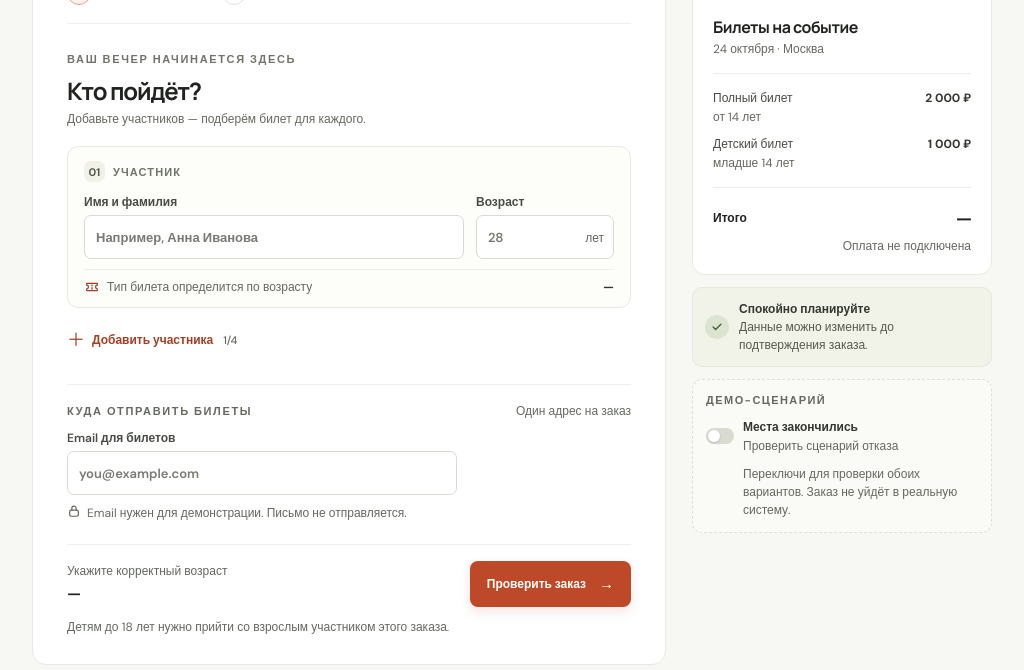
Scenario: ticket booking flow › caps the order at four attendees
This screenshot has width=1024, height=670.
(page scrolled)
Click the button "＋ Добавить участника 1/4" at x=156, y=340, box [67,318,245,362]
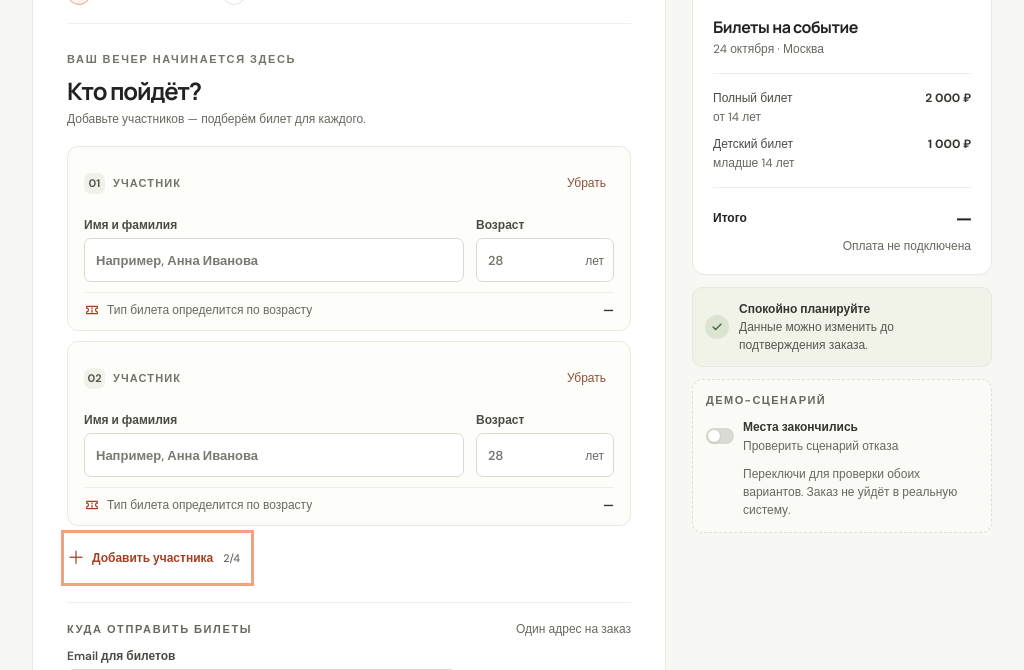
Click the button "＋ Добавить участника 2/4" at x=158, y=558, box [67,536,248,580]
(page scrolled)
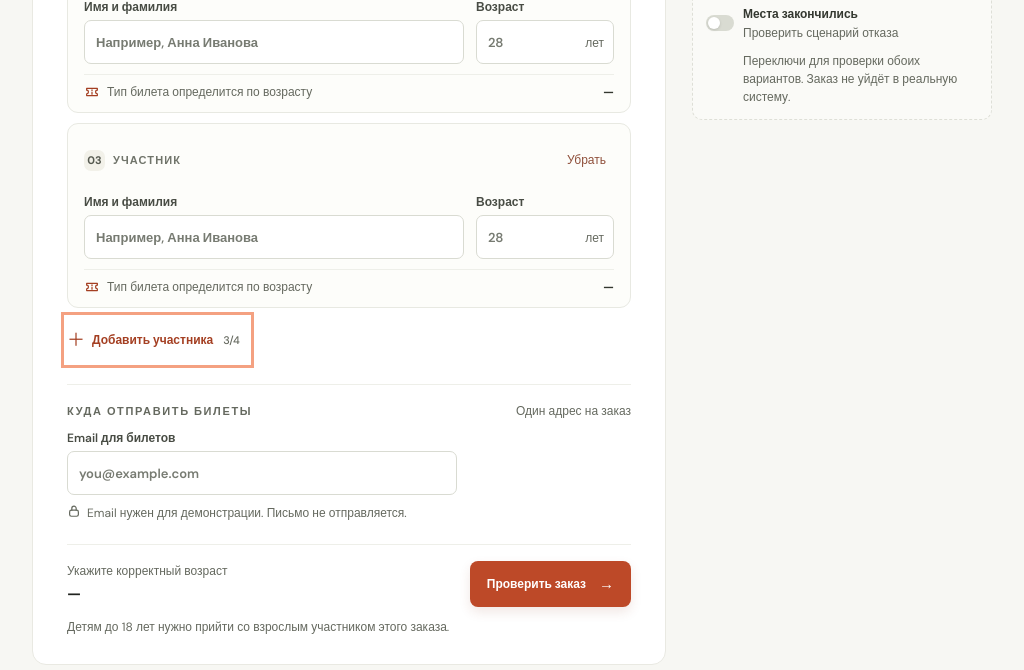
Click the button "＋ Добавить участника 3/4" at x=157, y=340, box [67,318,248,362]
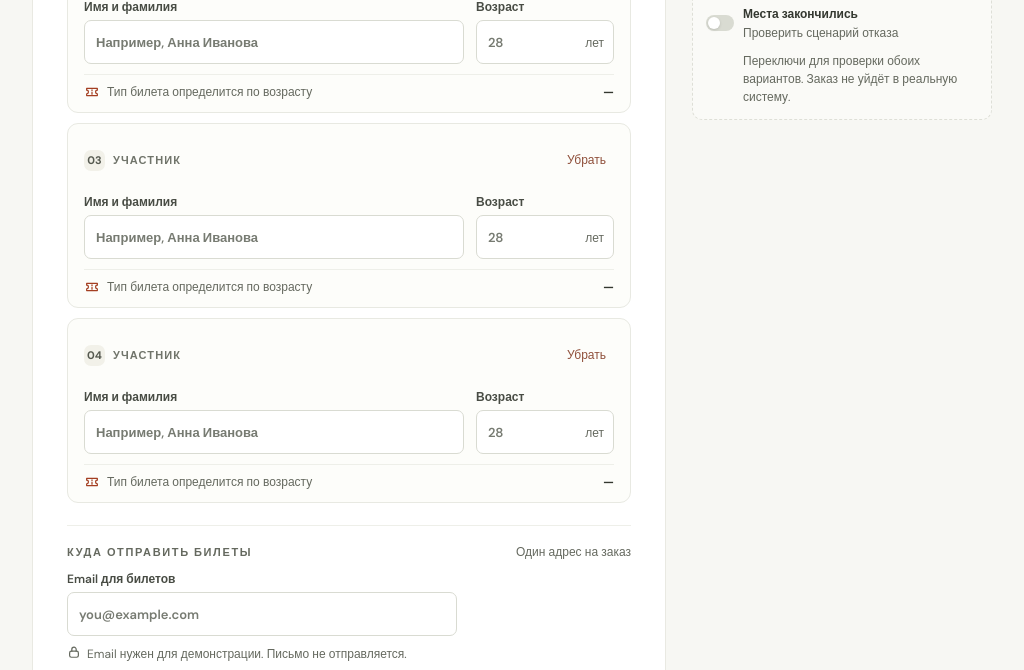
Now the number of fields labelled "Имя и фамилия" is 4
Now the button "Добавить участника" is gone
